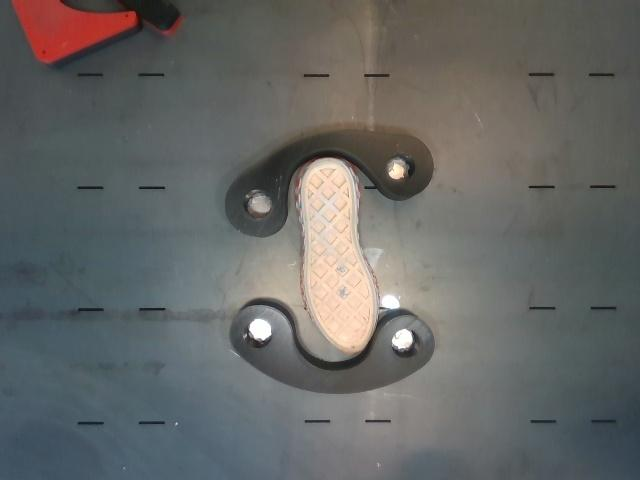shoes: (302, 159, 377, 350)
